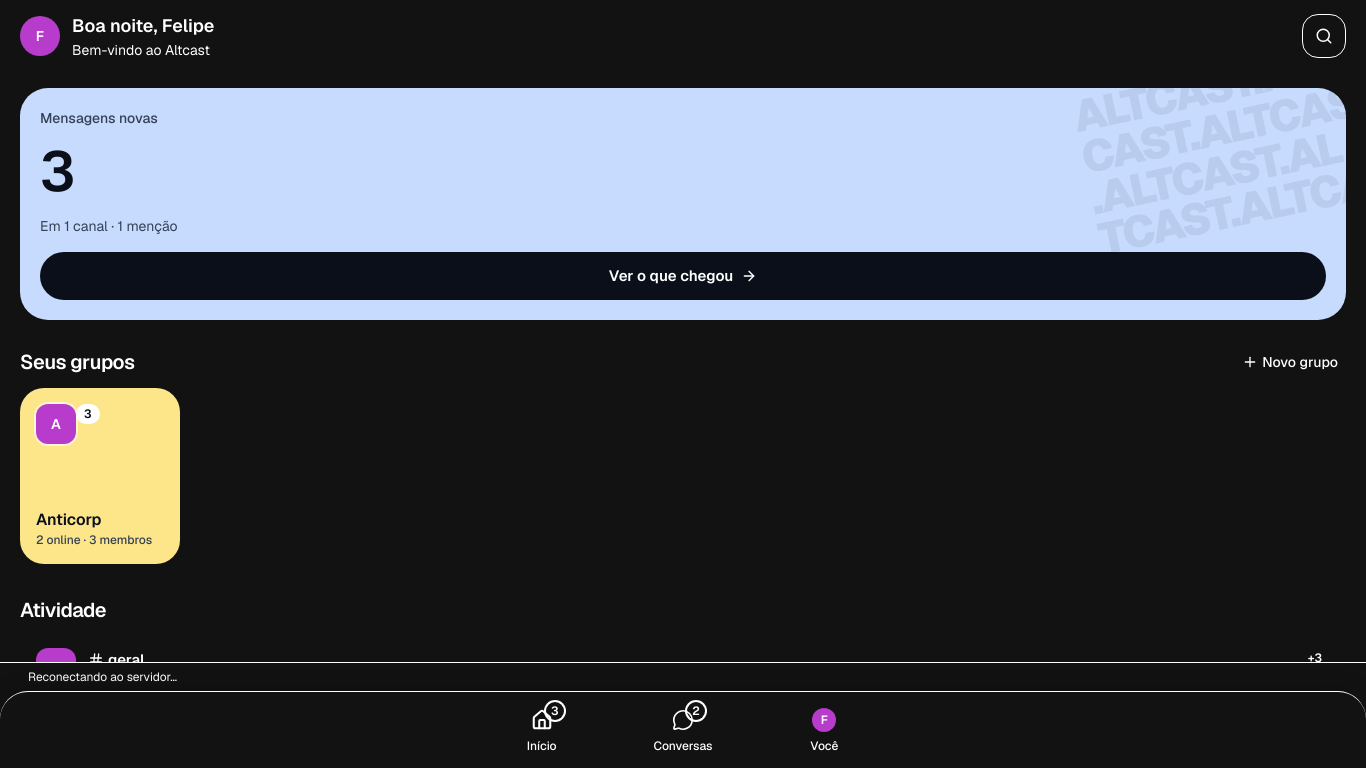
Scenario: no celular › grupo, canal e voltar: uma tela por vez
Click the button "A 3 Anticorp 2 online · 3 membros" at (100, 476), box left=20, top=388, right=180, bottom=564
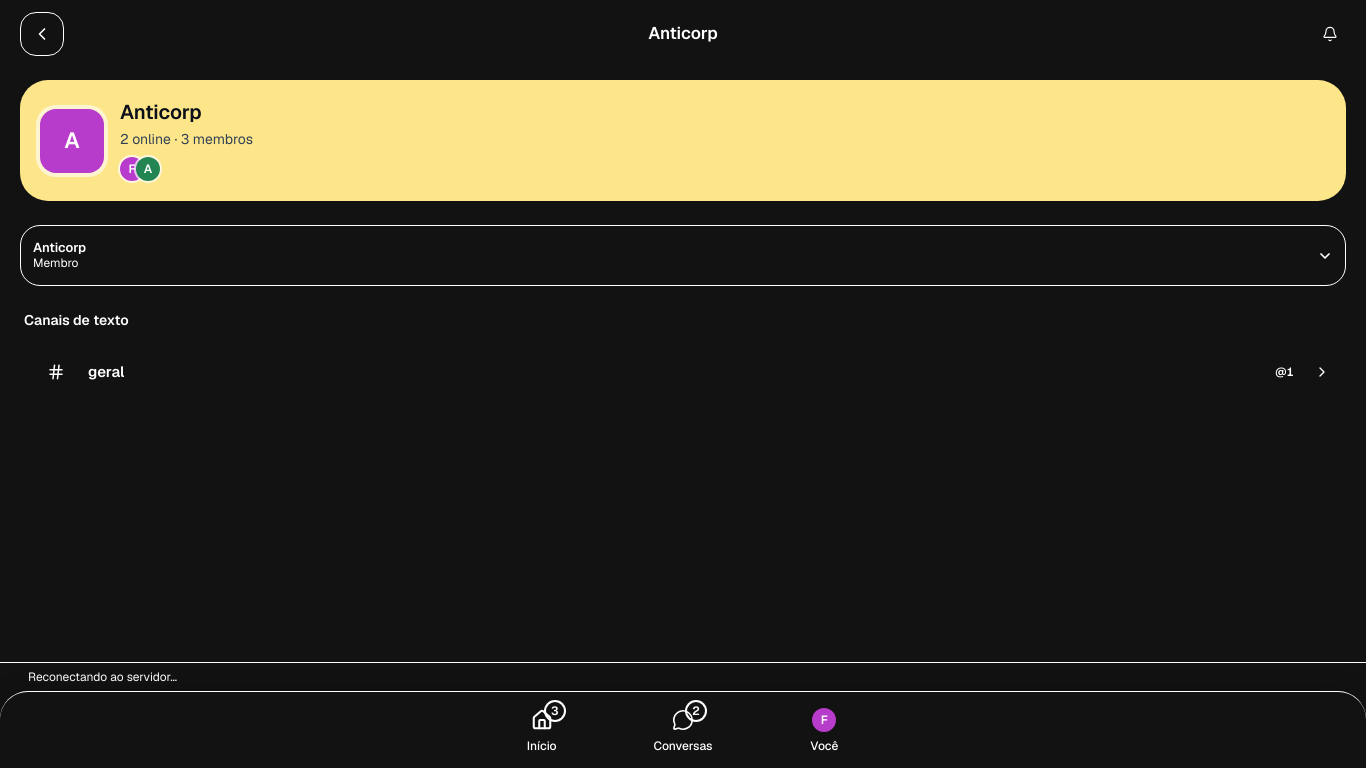
Click the button "geral @1" at (106, 371), box left=20, top=338, right=1346, bottom=406
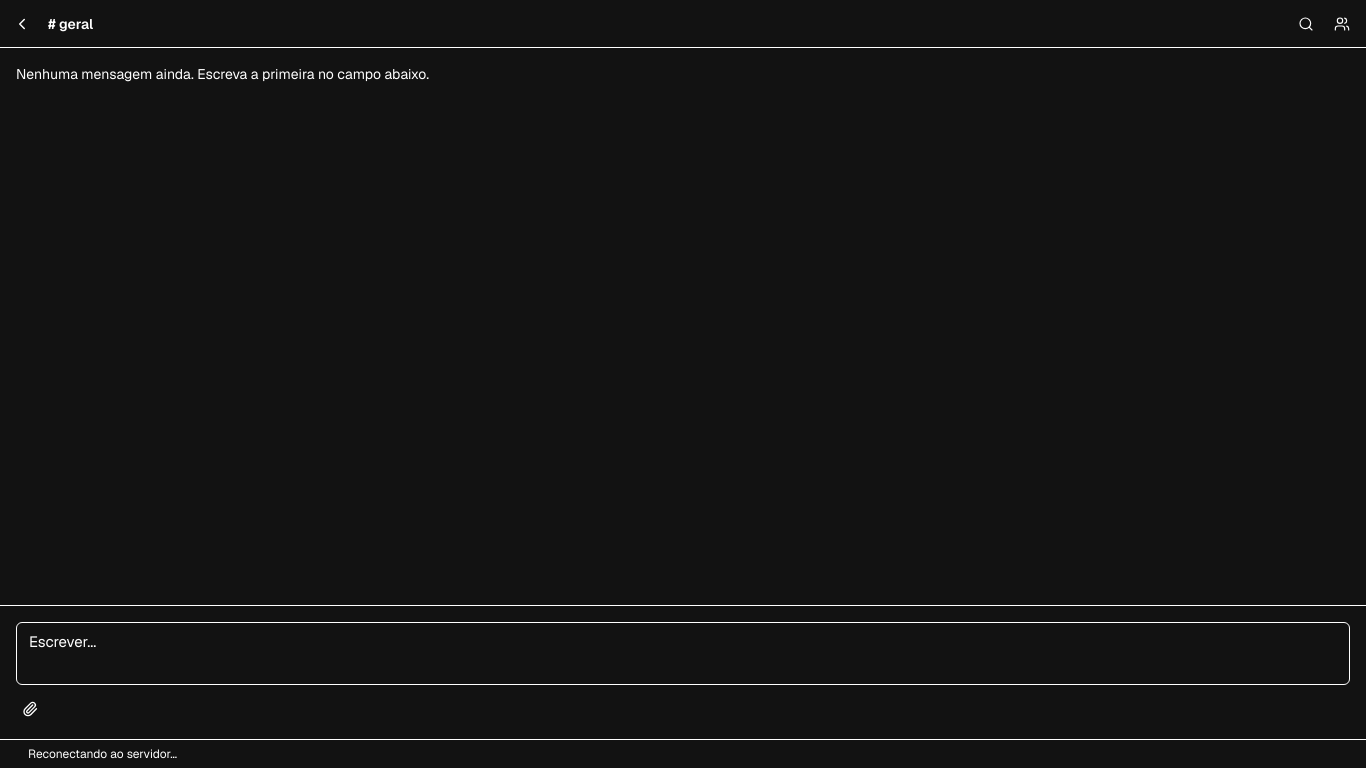
Check: the element named "Conversa" is shown
Click the 1st button named "Voltar" at (22, 24), box left=4, top=6, right=40, bottom=42
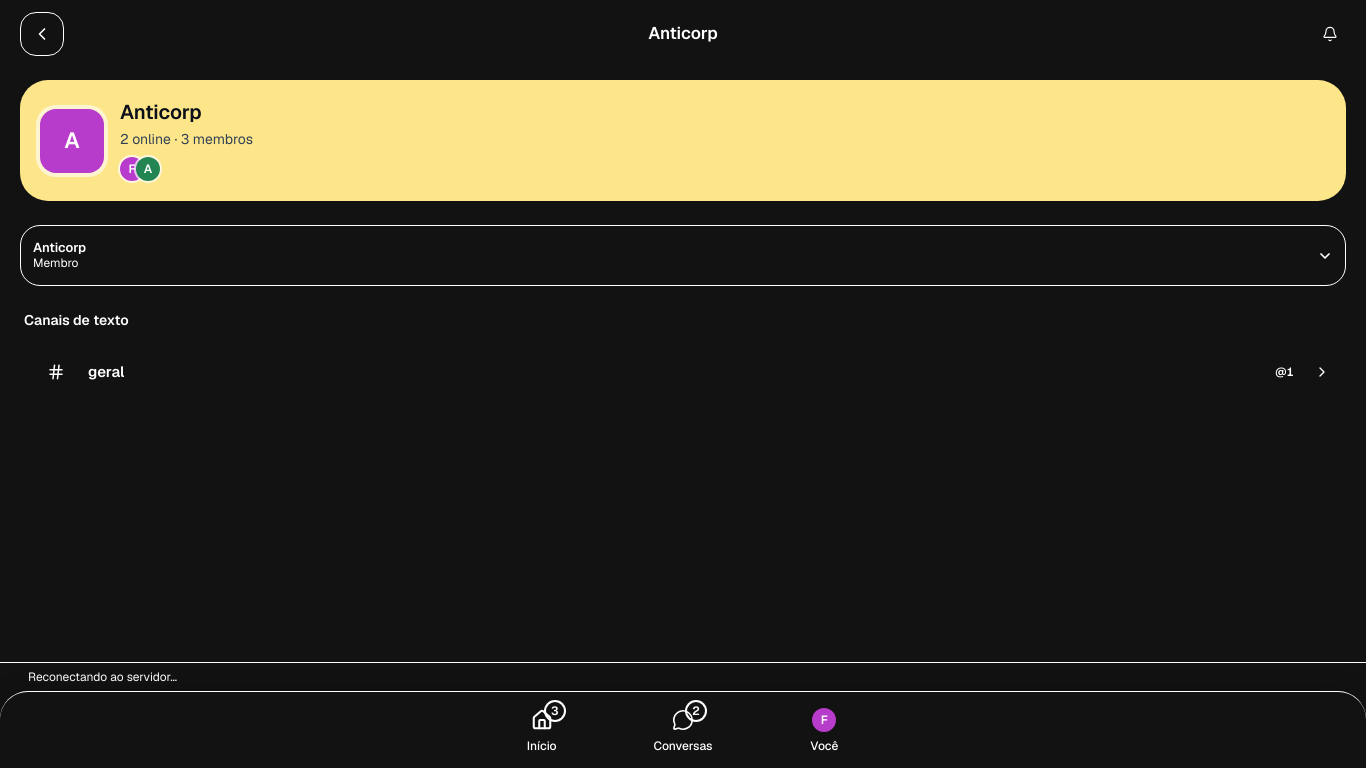
Check: the heading "Anticorp" is shown, box left=648, top=22, right=718, bottom=44
